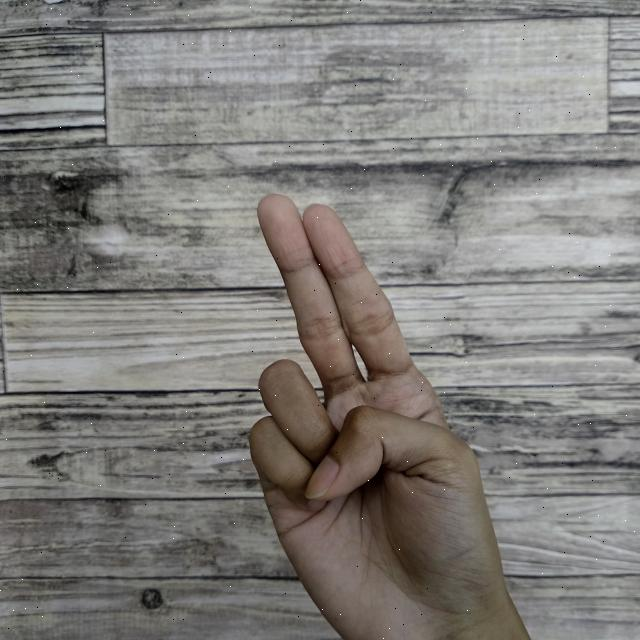U: (236, 183, 529, 640)
